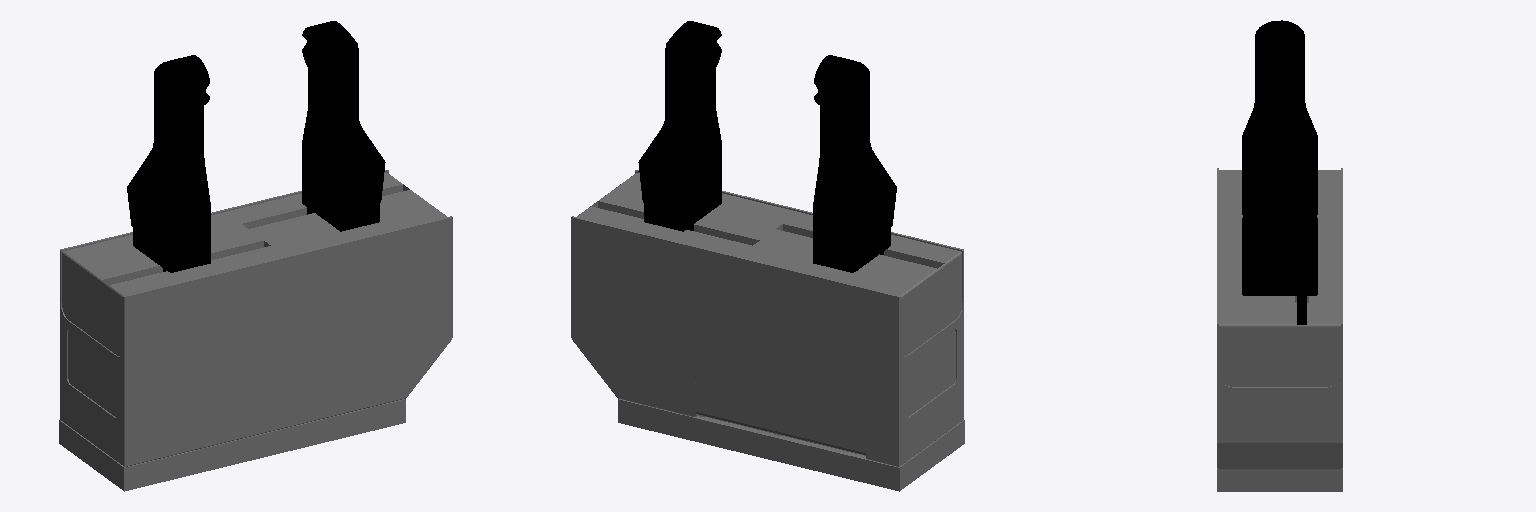
The robot description file, URDF, robot "wsg_50":
<?xml version="1.0"?>
<robot name="wsg_50" 

       xmlns:xi="http://www.w3.org/2001/XInclude"
       xmlns:gazebo="http://playerstage.sourceforge.net/gazebo/xmlschema/#gz"
       xmlns:model="http://playerstage.sourceforge.net/gazebo/xmlschema/#model"
       xmlns:sensor="http://playerstage.sourceforge.net/gazebo/xmlschema/#sensor"
       xmlns:body="http://playerstage.sourceforge.net/gazebo/xmlschema/#body"
       xmlns:geom="http://playerstage.sourceforge.net/gazebo/xmlschema/#geom"
       xmlns:joint="http://playerstage.sourceforge.net/gazebo/xmlschema/#joint"
       xmlns:interface="http://playerstage.sourceforge.net/gazebo/xmlschema/#interface"
       xmlns:rendering="http://playerstage.sourceforge.net/gazebo/xmlschema/#rendering"
       xmlns:renderable="http://playerstage.sourceforge.net/gazebo/xmlschema/#renderable"
       xmlns:controller="http://playerstage.sourceforge.net/gazebo/xmlschema/#controller"
       xmlns:physics="http://playerstage.sourceforge.net/gazebo/xmlschema/#physics">

  <link name="gripper_base">
        <inertial>
            <mass value="0.000000000001" />
            <origin xyz="0 0 0" />
            <inertia ixx="0.000000000001" ixy="0.0" ixz="0.0" iyy="0.000000000001" iyz="0.0" izz="0.000000000001" />
        </inertial> 
    </link>

    <joint name="base_to_gripper_base" type="fixed">
        <origin xyz="0 0 0.01" rpy="0 0 0" />
        <parent link="gripper_base"/>
        <child link="base_link" />
    </joint>

 <!-- BASE LINK -->
 <link name="base_link">
      <inertial>
          <mass value="1.2" />
          <origin xyz="0 0 0" />
     	  <!--inertia ixx="1.0" ixy="0.0" ixz="0.0"
               iyy="100.0" iyz="0.0" 
               izz="1.0" /-->
      	  <inertia  ixx="1.0" ixy="0.0"  ixz="0.0"  iyy="1.0"  iyz="0.0"  izz="1.0" />
      </inertial>

      <visual>
          <origin xyz="0.0 0 0" rpy="0 0 0" />
          <geometry>
             <mesh filename="package://wsg_50_simulation/meshes/WSG50_110_w_adaptor.stl" scale="1 1 1"/>
	     <!--box size="0.146 0.05 0.0735"/-->
          </geometry>
          <material name="grey">
		<color rgba="0.5 0.5 0.5 1"/>
      	  </material>
      </visual>

      <collision>
          <origin xyz="0.0 0 0" rpy="0 0 0" />
          <geometry>
	     <!--box size="0.146 0.05 0.0735"/-->
             <mesh filename="package://wsg_50_simulation/meshes/WSG50_110_w_adaptor.stl" scale="1 1 1"/>
         </geometry>
     </collision>
  </link>

  <gazebo reference="base_link">
    <material>Gazebo/Grey</material>
    <turnGravityOff>false</turnGravityOff>
  </gazebo>

  <!-- GRIPPER LEFT -->

  <joint name="base_joint_gripper_left" type="prismatic">
     <limit lower="-0.055" upper="-0.0027" effort="1.0" velocity="1.0"/>
     <origin xyz="0 0 0" rpy="0 0 0" />      <!--origin xyz="-0.0067 0 0.049" rpy="0 0 0" /-->
     <parent link="base_link"/>
     <child link="gripper_left" />
     <dynamics friction="100" damping="100" />
     <axis xyz="1 0 0"/>
     <limit effort="100" velocity="100"/>
  </joint>

  <transmission name="base_trans_left" type="transmission_interface/SimpleTransmission">
    <!--<robotNamespace>/wsg_50</robotNamespace>-->
    <type>transmission_interface/SimpleTransmission</type>  
     <actuator name="base_motor_left" />
     <joint name="base_joint_gripper_left">
      <hardwareInterface>hardware_interface/PositionJointInterface</hardwareInterface>
     </joint>
     <mechanicalReduction>1</mechanicalReduction>
     <motorTorqueConstant>1</motorTorqueConstant>
  </transmission>

  <link name="gripper_left">
      <inertial>
          <mass value="0.1" />
          <origin xyz="0 0 0" />
      <inertia ixx="1.0" ixy="0.0" ixz="0.0"
               iyy="1.0" iyz="0.0" 
               izz="1.0" />
      </inertial>

      <visual>
          <origin xyz="0.0 0 0" rpy="0 0 0" />
          <geometry>
             <mesh filename="package://wsg_50_simulation/meshes/GUIDE_WSG50_110.stl" scale="0.001 0.001 0.001"/>
	     <!--box size="0.0175 0.03 0.024"/-->
          </geometry>
          <material name="black">
		<color rgba="0 0 0 1"/>
      	  </material>
      </visual>

      <collision>
          <origin xyz="0 0 0" rpy="0 0 0" />
          <geometry>
	     <!--box size="0.0175 0.03 0.024"/-->
             <mesh filename="package://wsg_50_simulation/meshes/GUIDE_WSG50_110.stl" scale="0.001 0.001 0.001"/>
         </geometry>
     </collision>
  </link>

  <gazebo reference="gripper_left">
    <material>Gazebo/Blue</material>
    <turnGravityOff>false</turnGravityOff>
  </gazebo>


  <!-- LEFT FINGER -->

  <joint name="guide_joint_finger_left" type="fixed">
     <origin xyz="0 0 0.023" rpy="0 0 0" />
     <parent link="gripper_left"/>
     <child link="finger_left" />
     <dynamics friction="100" damping="100" />
     <axis xyz="1 0 0"/>
     <limit effort="100" velocity="100"/>
  </joint>

  <link name="finger_left">
      <inertial>
          <mass value="0.1" />
          <origin xyz="0 0 0" />
      <inertia ixx="1.0" ixy="0.0" ixz="0.0"
               iyy="1.0" iyz="0.0" 
               izz="1.0" />
      </inertial>

      <visual>
          <origin xyz="0.0 0 0" rpy="0 0 0" />
          <geometry>
             <mesh filename="package://wsg_50_simulation/meshes/WSG-FMF.stl" scale="0.001 0.001 0.001"/>
          </geometry>
          <material name="black">
		<color rgba="0 0 0 1"/>
      	  </material>
      </visual>

      <collision>
          <origin xyz="0 0 0" rpy="0 0 0" />
          <geometry>
             <mesh filename="package://wsg_50_simulation/meshes/WSG-FMF.stl" scale="0.001 0.001 0.001"/>
         </geometry>
     </collision>
  </link>

  <gazebo reference="finger_left">
    <material>Gazebo/Blue</material>
    <turnGravityOff>false</turnGravityOff>
  </gazebo>


  <!-- GRIPPER RIGHT -->

  <joint name="base_joint_gripper_right" type="prismatic">
     <limit lower="0.0027" upper="0.055" effort="1.0" velocity="1.0"/>
     <origin xyz="0 0 0" rpy="0 0 3.14159" />
     <parent link="base_link"/>
     <child link="gripper_right" />
     <axis xyz="-1 0 0"/>
     <dynamics friction="100" damping="100" />
     <limit effort="100" velocity="100"/>
  </joint>

  <transmission name="base_trans_right" type="transmission_interface/SimpleTransmission">
    <!--<robotNamespace>/wsg_50</robotNamespace>-->
     <type>transmission_interface/SimpleTransmission</type>
     <actuator name="base_motor_right" />
     <joint name="base_joint_gripper_right">
      <hardwareInterface>hardware_interface/PositionJointInterface</hardwareInterface>
     </joint>
     <mechanicalReduction>1</mechanicalReduction>
     <motorTorqueConstant>1</motorTorqueConstant>
  </transmission>
	
    <link name="gripper_right">
      <inertial>
          <mass value="0.1" />
          <origin xyz="0 0 0" />
      <inertia ixx="1.0" ixy="0.0" ixz="0.0"
               iyy="1.0" iyz="0.0" 
               izz="1.0" />
      </inertial>

      <visual>
          <origin xyz="0.0 0 0" rpy="0 0 0" />
          <geometry>
             <mesh filename="package://wsg_50_simulation/meshes/GUIDE_WSG50_110.stl" scale="0.001 0.001 0.001"/>
	     <!--box size="0.0175 0.03 0.024"/-->
          </geometry>
          <material name="black">
		<color rgba="0 0 0 1"/>
      	  </material>
      </visual>

      <collision>
          <origin xyz="0 0 0" rpy="0 0 0" />
          <geometry>
	     <!--box size="0.0175 0.03 0.024"/-->
             <mesh filename="package://wsg_50_simulation/meshes/GUIDE_WSG50_110.stl" scale="0.001 0.001 0.001"/>
         </geometry>
     </collision>
  </link>

  <gazebo reference="gripper_right">
    <material>Gazebo/White</material>
    <turnGravityOff>false</turnGravityOff>
  </gazebo>

  <!-- RIGHT FINGER -->

  <joint name="guide_joint_finger_right" type="fixed">
     <origin xyz="0 0 0.023" rpy="0 0 0" />
     <parent link="gripper_right"/>
     <child link="finger_right" />
     <dynamics friction="100" damping="100" />
     <axis xyz="1 0 0"/>
     <limit effort="100" velocity="100"/>
  </joint>

  <link name="finger_right">
      <inertial>
          <mass value="0.1" />
          <origin xyz="0 0 0" />
      <inertia ixx="1.0" ixy="0.0" ixz="0.0"
               iyy="1.0" iyz="0.0" 
               izz="1.0" />
      </inertial>

      <visual>
          <origin xyz="0.0 0 0" rpy="0 0 0" />
          <geometry>
             <mesh filename="package://wsg_50_simulation/meshes/WSG-FMF.stl" scale="0.001 0.001 0.001"/>
          </geometry>
          <material name="black">
		<color rgba="0 0 0 1"/>
      	  </material>
      </visual>

      <collision>
          <origin xyz="0 0 0" rpy="0 0 0" />
          <geometry>
             <mesh filename="package://wsg_50_simulation/meshes/WSG-FMF.stl" scale="0.001 0.001 0.001"/>
         </geometry>
     </collision>
  </link>

  <gazebo reference="finger_right">
    <material>Gazebo/White</material>
    <turnGravityOff>false</turnGravityOff>
  </gazebo>

  <transmission name="trans_base_joint_gripper_left">
  <type>transmission_interface/SimpleTransmission</type>
  <joint name="base_joint_gripper_left">
      <hardwareInterface>hardware_interface/PositionJointInterface</hardwareInterface>
  </joint>
  <actuator name="base_joint_gripper_left_motor">
      <hardwareInterface>hardware_interface/PositionJointInterface</hardwareInterface>
      <mechanicalReduction>1</mechanicalReduction>
  </actuator>
</transmission>
<transmission name="trans_base_joint_gripper_right">
  <type>transmission_interface/SimpleTransmission</type>
  <joint name="base_joint_gripper_right">
      <hardwareInterface>hardware_interface/PositionJointInterface</hardwareInterface>
  </joint>
  <actuator name="base_joint_gripper_right_motor">
      <hardwareInterface>hardware_interface/PositionJointInterface</hardwareInterface>
      <mechanicalReduction>1</mechanicalReduction>
  </actuator>
</transmission>

  <!-- Gazebo controllers -->
  <!--gazebo>
     <controller:gazebo_ros_time name="gazebo_ros_time" plugin="libgazebo_ros_time.so">
       <alwaysOn>true</alwaysOn>
       <updateRate>1000.0</updateRate>
       <interface:audio name="dummy_gazebo_ros_time_iface_should_not_be_here"/>
     </controller:gazebo_ros_time-->

  <!-- PR2_ACTARRAY -->
  <!--<gazebo>
     <plugin name="gazebo_ros_controller_manager" filename="libgazebo_ros_controller_manager.so">
       <alwaysOn>true</alwaysOn>
       <updateRate>1000.0</updateRate>
       <interface:audio name="gazebo_ros_controller_manager_dummy_iface" />
     </plugin>
  </gazebo>-->

  <!--
  <gazebo>
    <plugin name="gazebo_ros_controller_manager" filename="libgazebo_ros_controller_manager.so">
      <robotNamespace>/wsg_50</robotNamespace>
      <alwaysOn>true</alwaysOn>
      <updateRate>1000.0</updateRate>
    </plugin>
  </gazebo>-->

  <!--
  <plugin name="gazebo_ros_control" filename="libgazebo_ros_control.so">
    <robotNamespace>/</robotNamespace>
    <robotSimType>gazebo_ros_control/DefaultRobotHWSim</robotSimType>
  </plugin>-->


</robot>

--- What the picture shows (computed from the rendered views, not written in the file) ---
Views: 3 orthographic renders of the robot side by side, from view 1: azimuth 30°, elevation 25°; view 2: azimuth 150°, elevation 25°; view 3: azimuth 270°, elevation 25°.
Robot: wsg_50 — 6 links, 5 joints (2 prismatic, 3 fixed); root link gripper_base; default pose: joints at zero except 2 at the middle of their limits (base_joint_gripper_left = -0.0289, base_joint_gripper_right = 0.0289).
Visible links, largest first — view 1: base_link, finger_left, finger_right, gripper_right, gripper_left; view 2: base_link, finger_left, finger_right, gripper_right, gripper_left; view 3: base_link, finger_right, finger_left, gripper_right, gripper_left.
Link boxes in pixels (<box>): base_link: <box>59,170,452,491</box>; finger_left: <box>127,55,210,253</box>; finger_right: <box>302,21,385,207</box>; gripper_right: <box>302,149,379,231</box>; gripper_left: <box>133,209,210,272</box>; base_link: <box>571,170,964,491</box>; finger_left: <box>813,55,896,253</box>; finger_right: <box>638,21,721,207</box>; gripper_right: <box>644,150,721,231</box>; gripper_left: <box>813,209,890,272</box>; base_link: <box>1217,168,1342,491</box>; finger_right: <box>1242,87,1317,277</box>; finger_left: <box>1242,20,1317,173</box>; gripper_right: <box>1242,253,1317,324</box>; gripper_left: <box>1242,160,1317,214</box>.
Size in the robot's own frame: 0.146 by 0.05 by 0.1635 metres.
5 mesh visuals loaded from 3 distinct referenced files (3 binary STL).